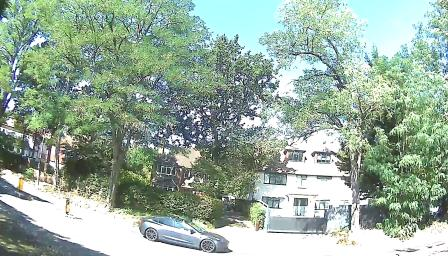Cars: (138, 214, 238, 252)
